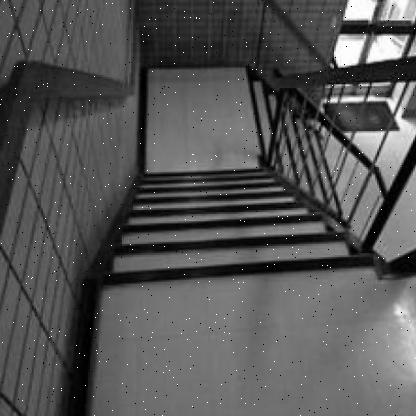stair_down: (82, 174, 370, 291)
